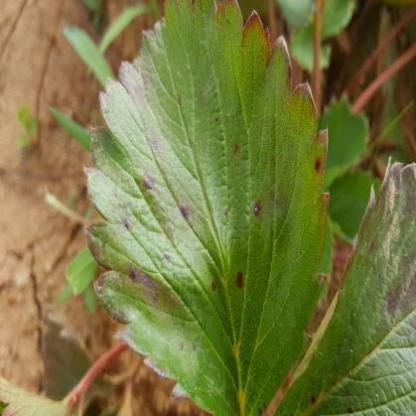Strawberry_Leaf_Spot: (82, 0, 331, 415), (273, 156, 415, 415)
